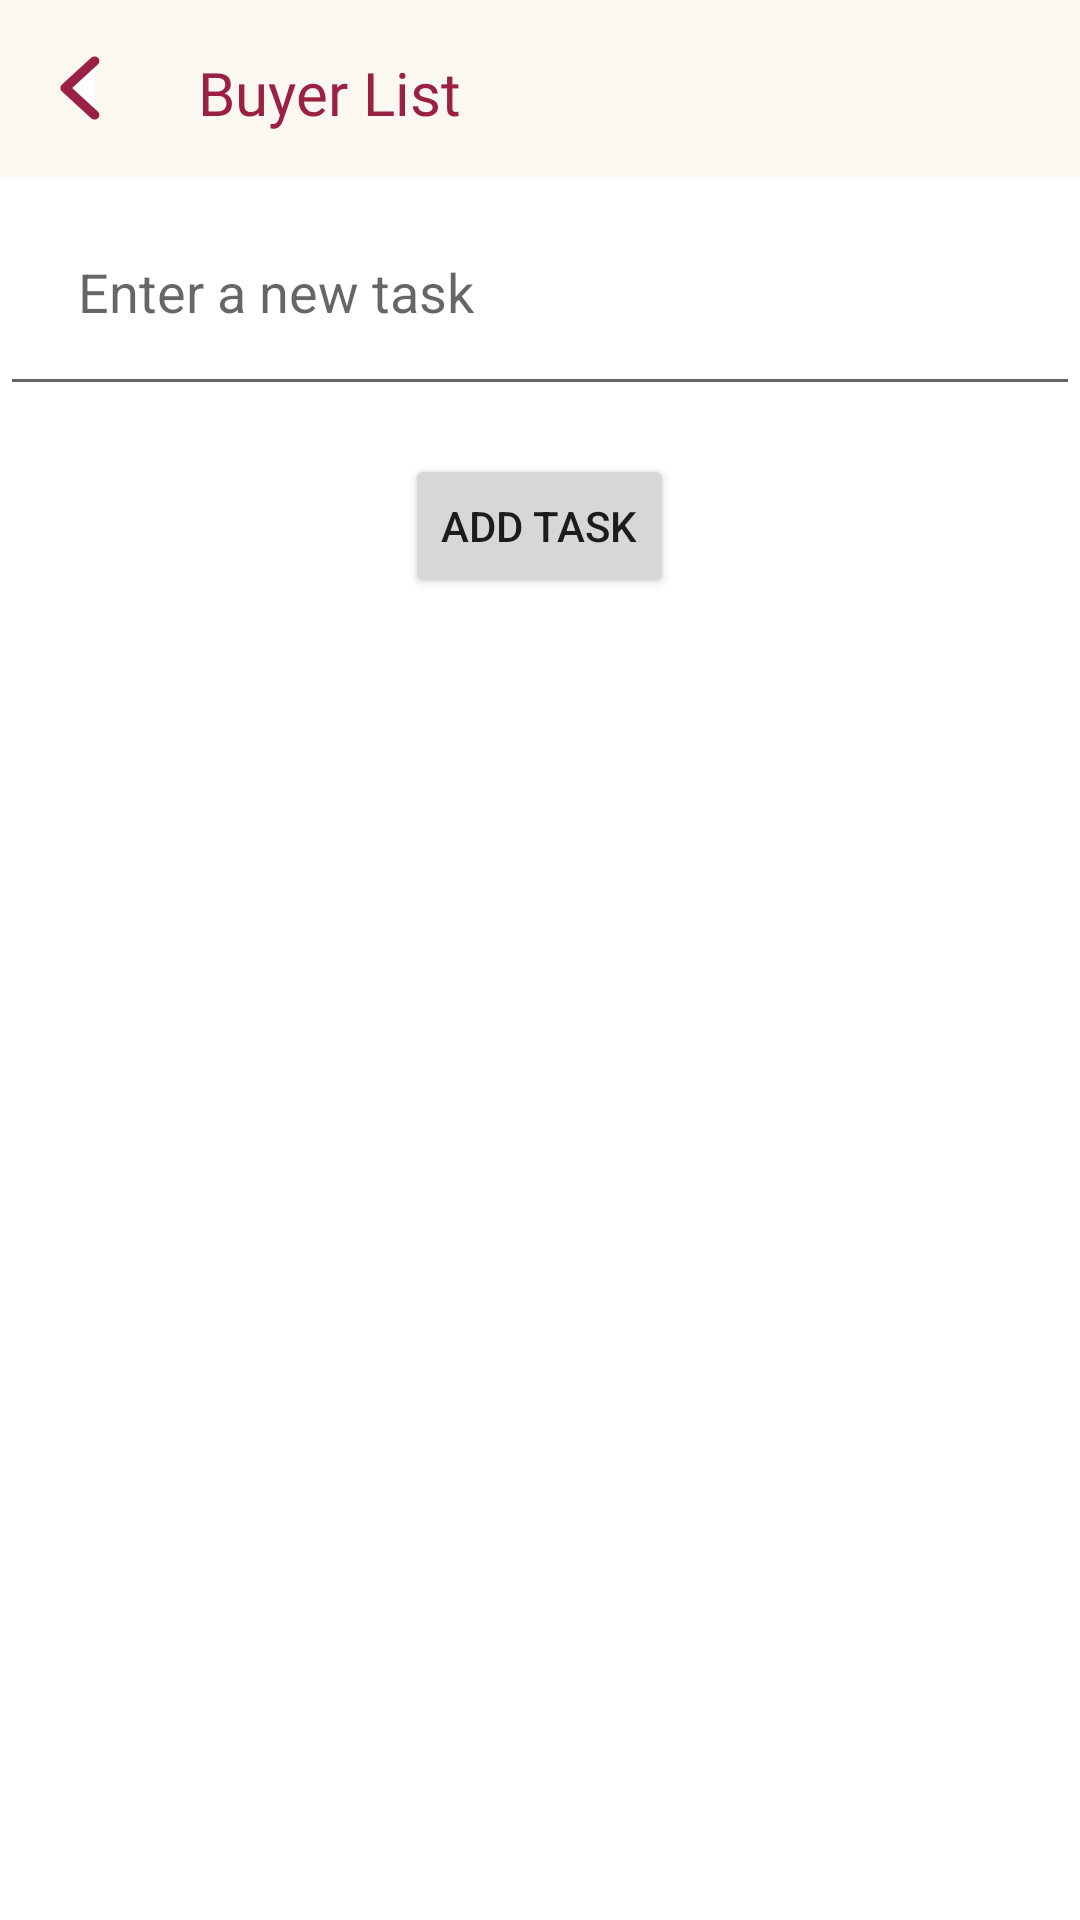

Icon bounding boxes for this 1080w x 1920h phone screenshot, format (x1, y1, x2, y2):
back arrow: (60, 56, 100, 120)
